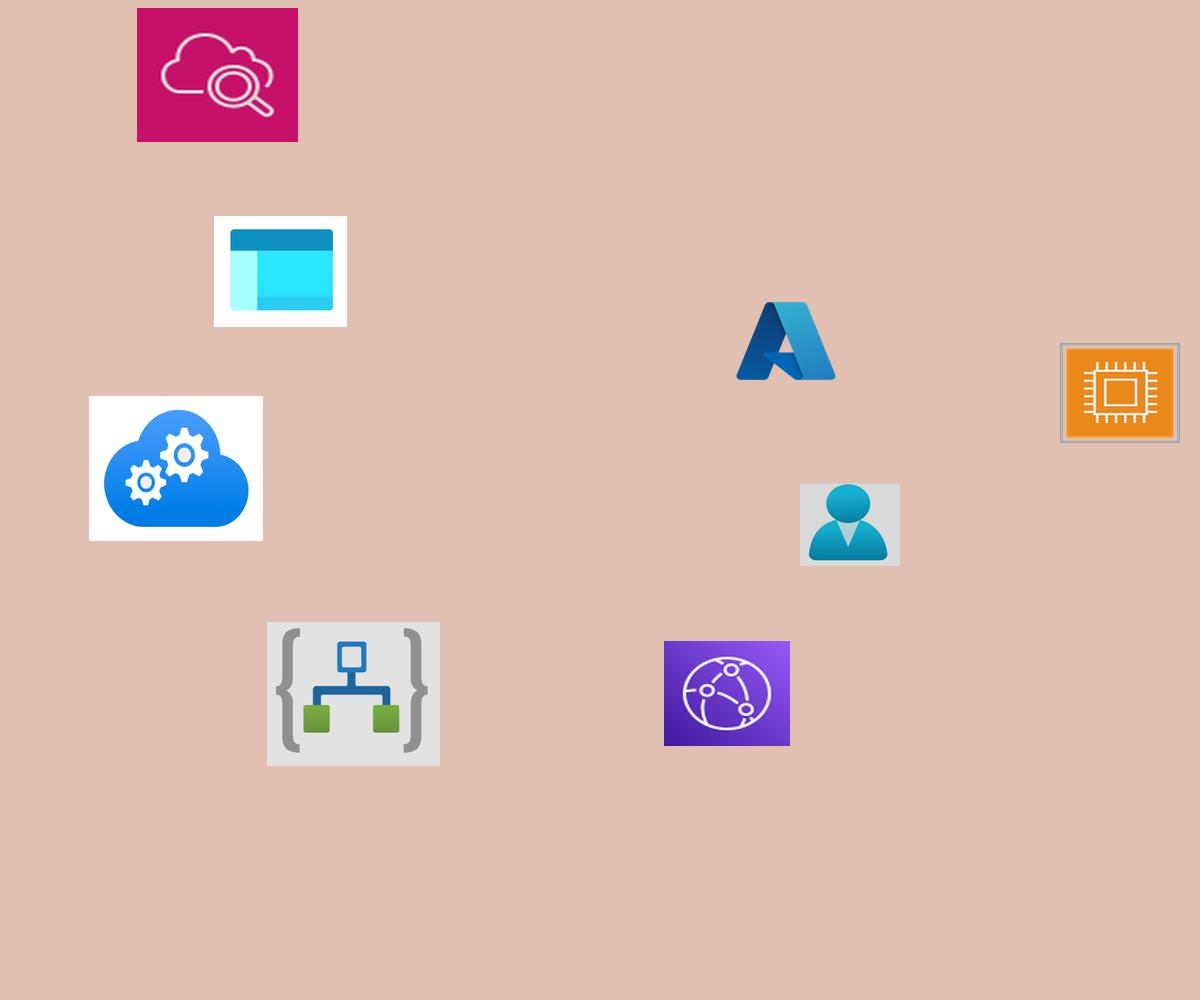AWS-Category_Compute: (1060, 343, 1180, 443)
AWS-CloudFront: (664, 641, 790, 746)
AWS-CloudWatch: (137, 8, 298, 142)
Azure_cloud_services: (89, 396, 263, 541)
Azure_integration-204-Logic-Apps: (267, 622, 440, 766)
Azure_management-portal: (214, 216, 347, 327)
Azure_services: (732, 296, 840, 386)
Azure_users: (800, 483, 900, 566)
